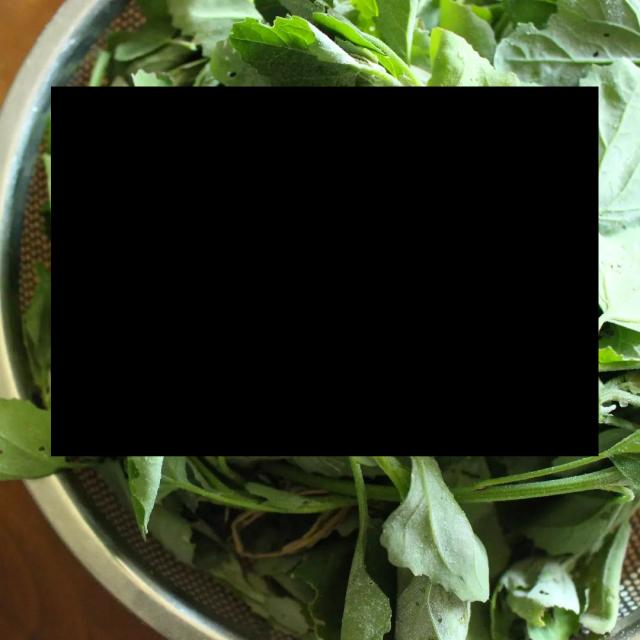Bethu_ko_Saag: (51, 87, 599, 456)
